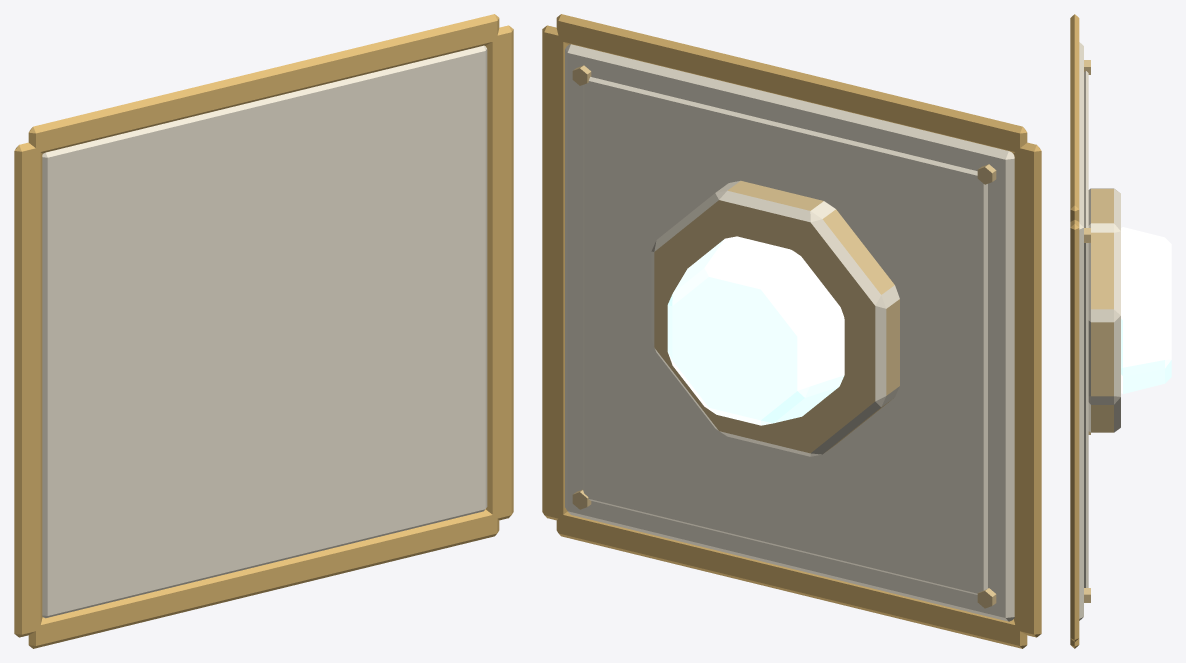
File: Ctl_Button.fbx
The picture shows the model from 3 angles, left to right: view 1: azimuth 30°, elevation 25°; view 2: azimuth 150°, elevation 25°; view 3: azimuth 270°, elevation 25°; orthographic projection. The views are drawn at different scales.
Visible parts, largest first — view 1: Ctl_Button, Ctl_Button_Frame; view 2: Ctl_Button, Ctl_Button_Frame, Moving; view 3: Ctl_Button, Moving, Ctl_Button_Frame.
Part boxes in pixels (x1=…): Ctl_Button: x1=42, y1=45, x2=487, y2=618; Ctl_Button_Frame: x1=14, y1=14, x2=513, y2=648; Ctl_Button: x1=565, y1=44, x2=1014, y2=621; Ctl_Button_Frame: x1=542, y1=14, x2=1041, y2=648; Moving: x1=667, y1=236, x2=844, y2=425; Ctl_Button: x1=1079, y1=42, x2=1120, y2=620; Moving: x1=1121, y1=227, x2=1171, y2=393; Ctl_Button_Frame: x1=1070, y1=14, x2=1079, y2=648.
Bounding box in the file's own units: 1.06 × 1.06 × 0.22.
